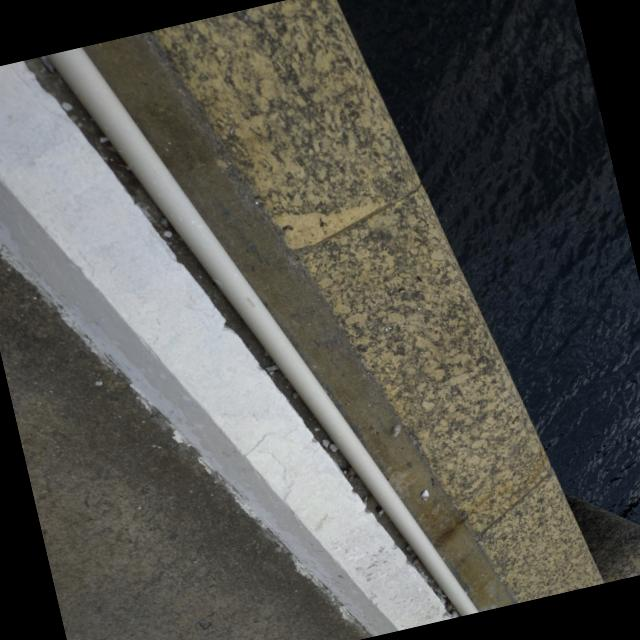gas: (47, 46, 479, 616)
